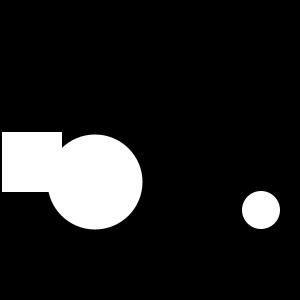circle: (2, 132, 62, 192)
rectangle: (48, 134, 142, 230), (242, 191, 280, 229)
